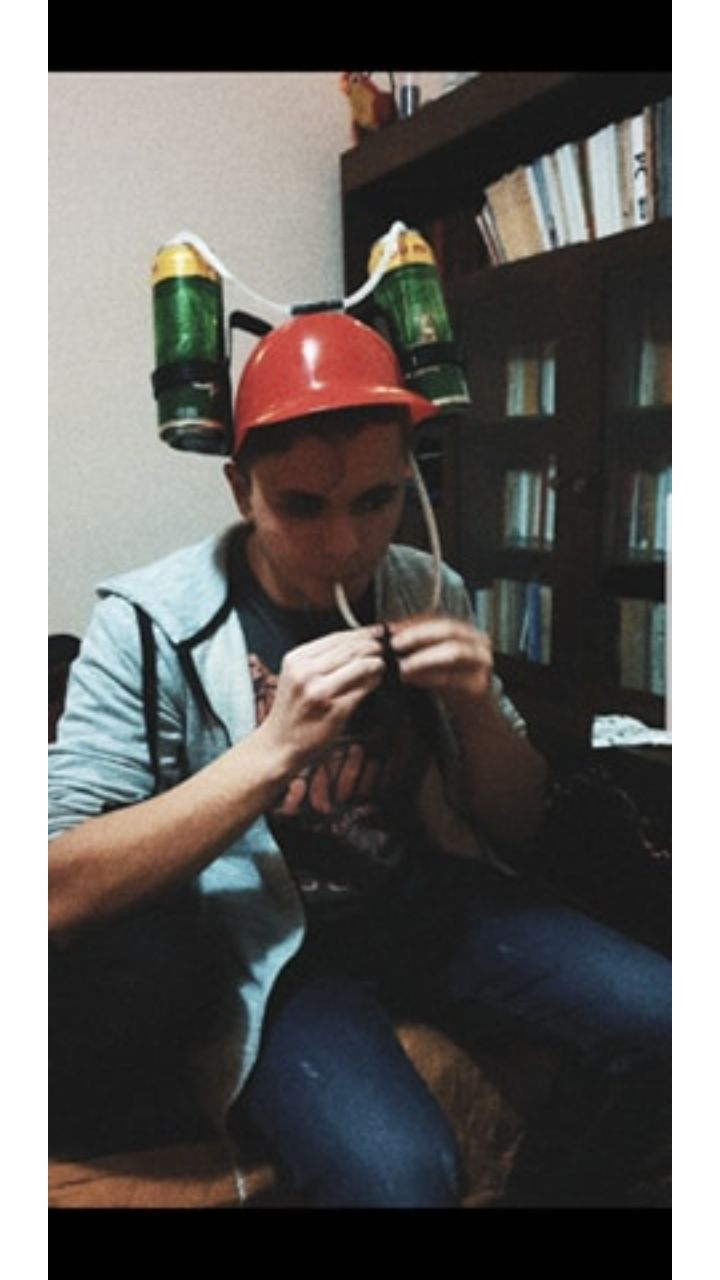Can: (143, 241, 236, 439), (367, 235, 469, 399)
